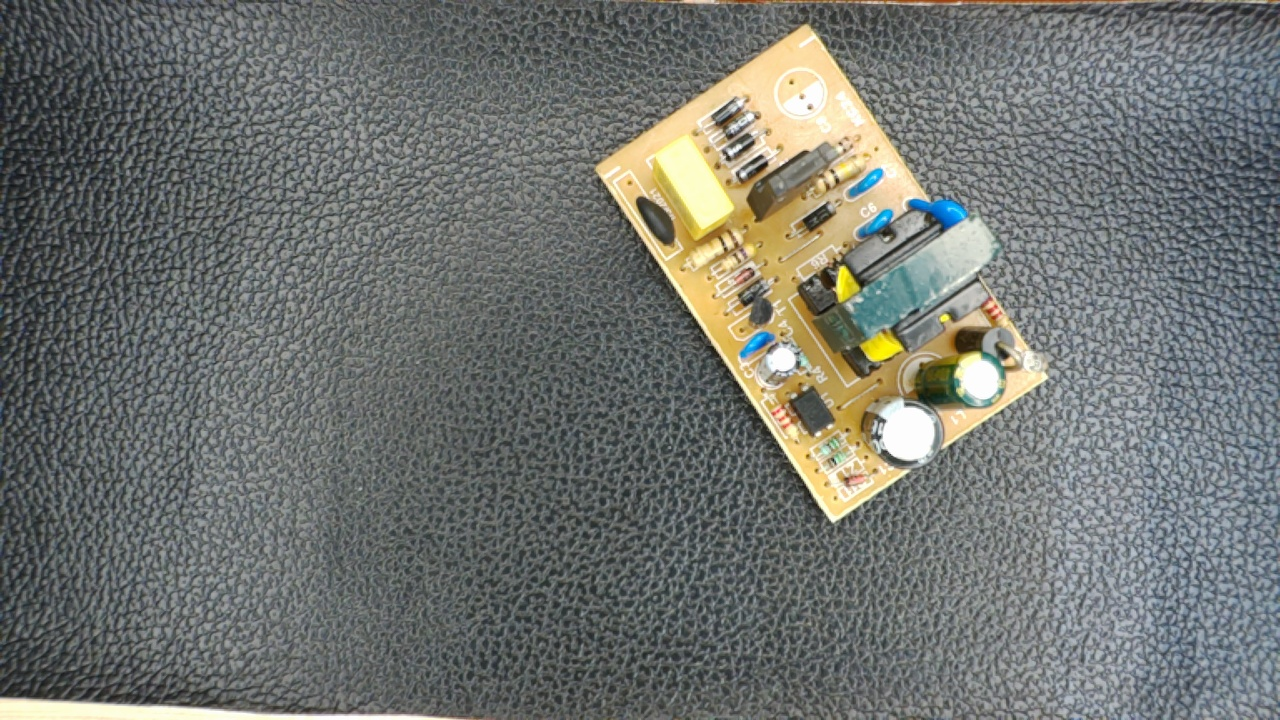fuse: (627, 191, 684, 252)
mov: (900, 188, 977, 231)
optocoupler: (779, 384, 845, 437)
